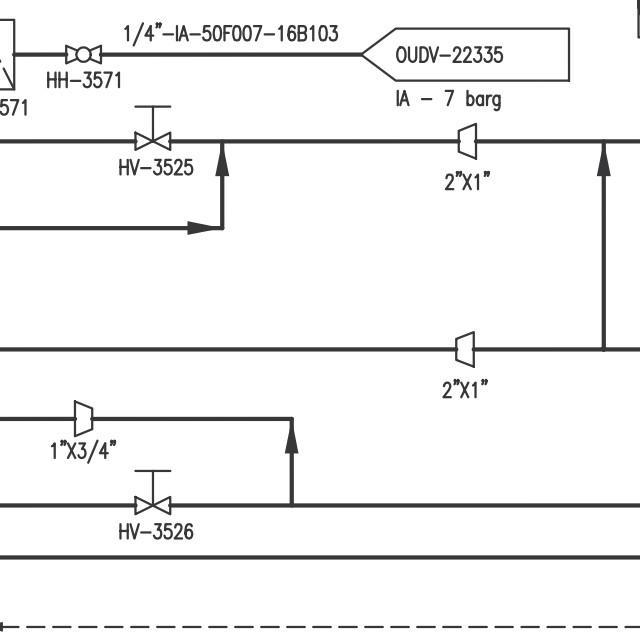BV2: (60, 39, 105, 72)
HVWT: (129, 97, 180, 156), (126, 462, 177, 518)
SP: (453, 119, 486, 162), (452, 327, 483, 369), (69, 397, 97, 439)
